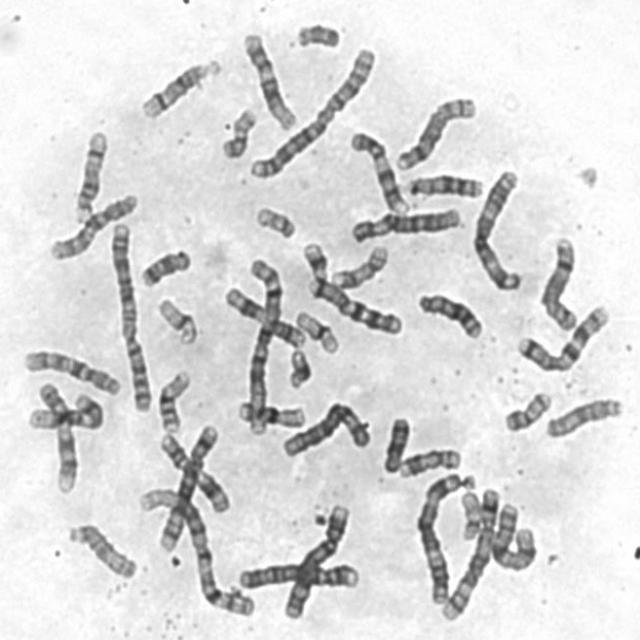A1: (130, 482, 258, 621), (240, 252, 284, 438)
A2: (244, 42, 379, 183), (106, 215, 154, 414)
A3: (410, 467, 471, 606), (468, 164, 526, 294)
B4: (278, 497, 352, 622), (233, 556, 361, 592)
B5: (152, 418, 221, 554), (436, 483, 502, 623)
C10: (44, 187, 140, 263), (18, 343, 122, 397)
C11: (153, 428, 232, 515), (220, 280, 309, 349)
C12: (238, 26, 299, 131), (23, 386, 106, 432)
C6: (277, 396, 373, 461), (346, 202, 463, 246)
C7: (511, 298, 612, 375), (303, 272, 404, 337)
C8: (391, 91, 479, 173), (534, 231, 580, 334)
C9: (346, 127, 410, 215), (33, 377, 80, 495)
D13: (412, 287, 484, 342), (397, 168, 485, 201)
D14: (136, 53, 222, 121), (68, 123, 110, 223)
D15: (62, 517, 140, 582), (541, 392, 625, 441)
E16: (152, 364, 193, 435), (233, 395, 307, 430)
E17: (326, 241, 391, 290), (394, 442, 464, 480)
E18: (135, 243, 193, 289), (378, 411, 412, 474)
F19: (152, 292, 200, 346), (290, 306, 341, 356)
F20: (499, 386, 554, 434), (215, 102, 260, 160)
G21: (282, 344, 314, 391), (298, 237, 330, 284)
G22: (250, 200, 298, 240), (456, 485, 483, 542)
X: (487, 496, 540, 574)
Y: (291, 17, 342, 52)
